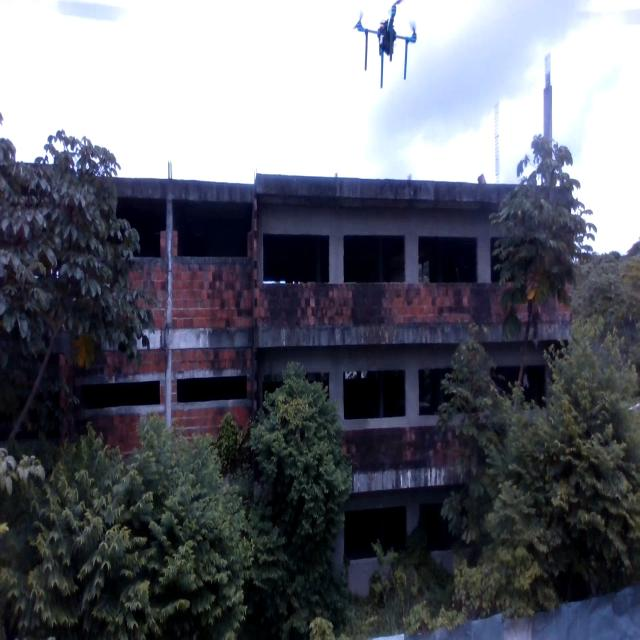-uav-: (350, 2, 428, 94)
